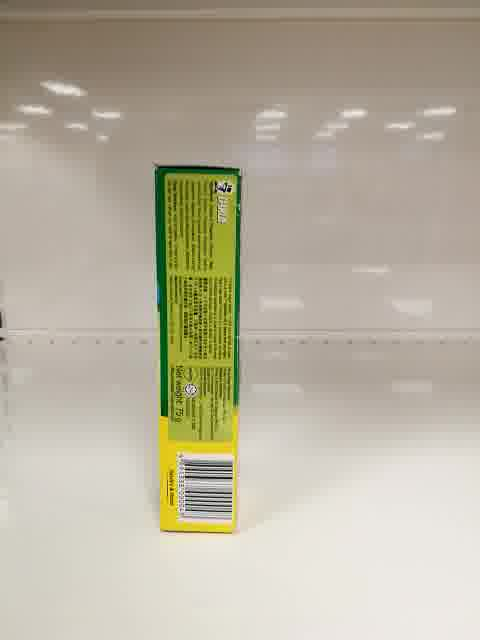toothpaste: (155, 166, 245, 536)
